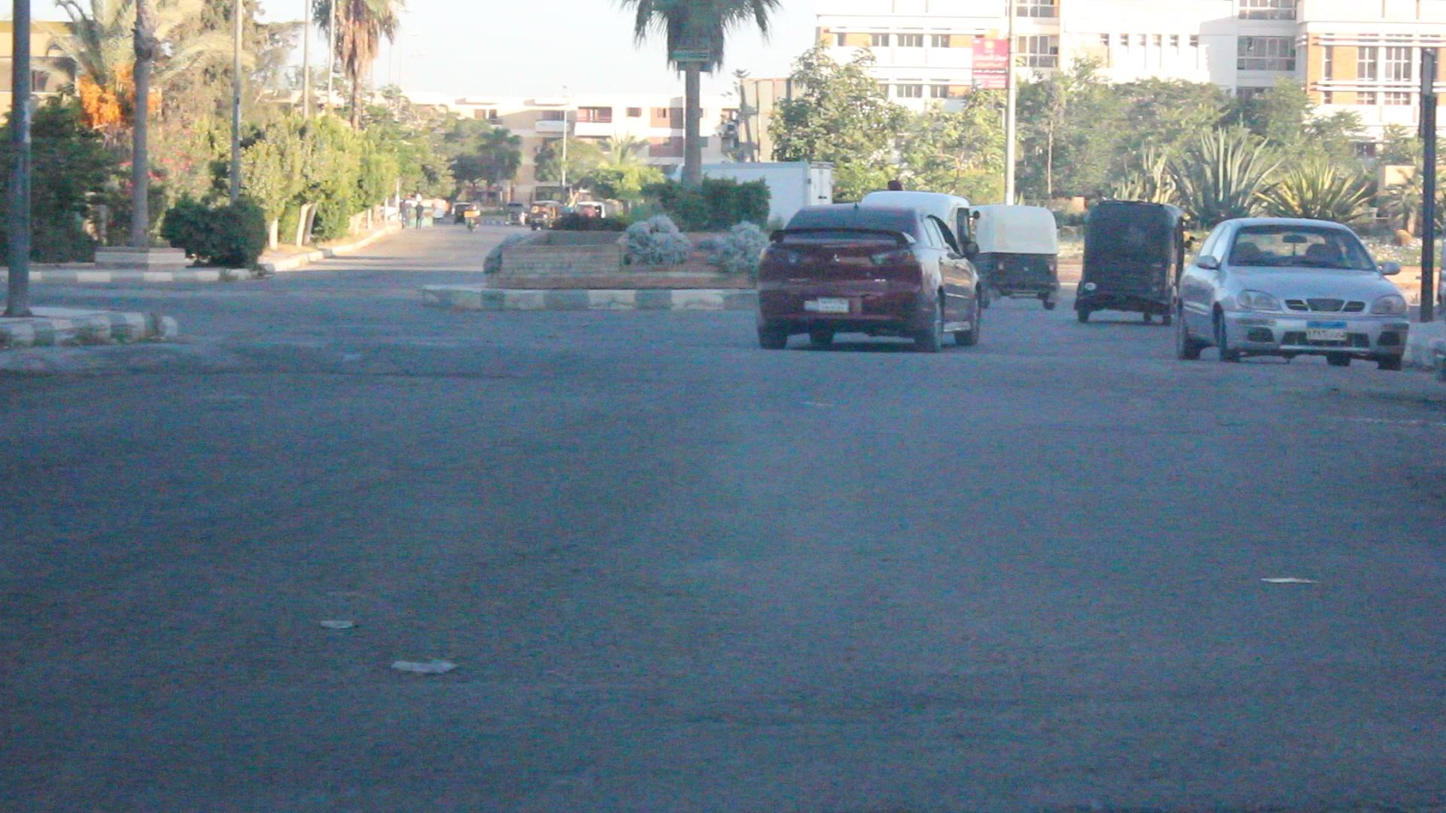Bump: (0, 335, 1435, 391)
Pothole: (1303, 378, 1446, 438)
